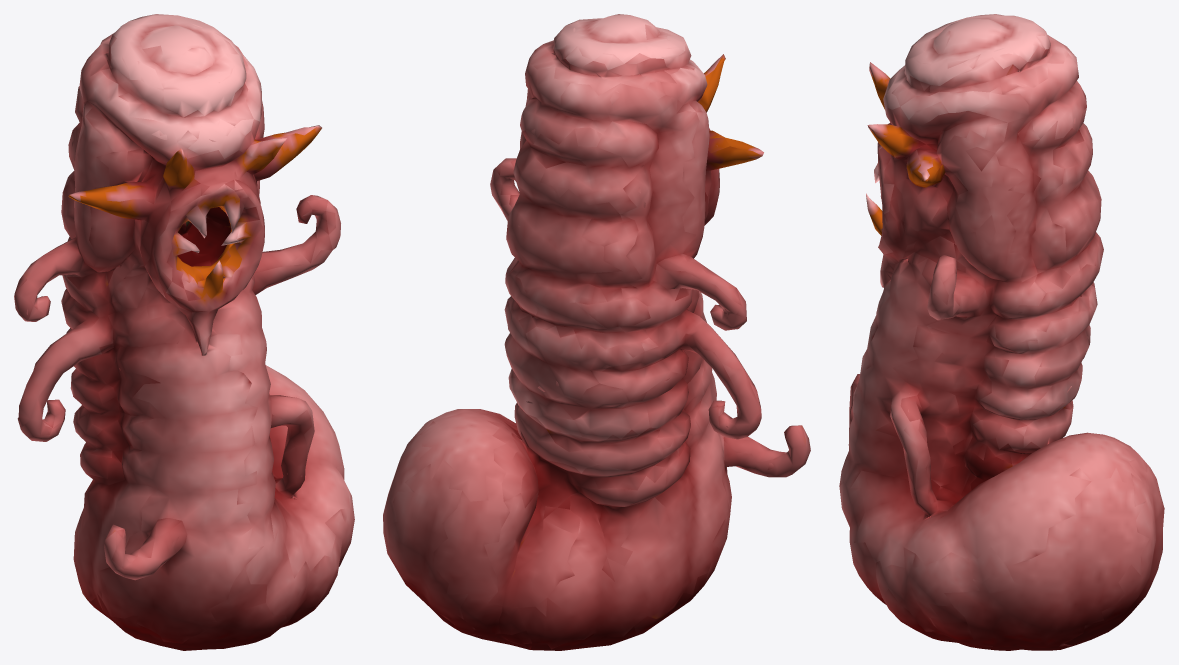
Rendered from SARGA1.obj.
3 views of the same model, side by side, from view 1: azimuth 30°, elevation 25°; view 2: azimuth 150°, elevation 25°; view 3: azimuth 270°, elevation 25° (orthographic). The views are drawn at different scales.
Size of the model in its own units: 0.5782 by 1 by 0.5075.
1 material, 1 textured.
